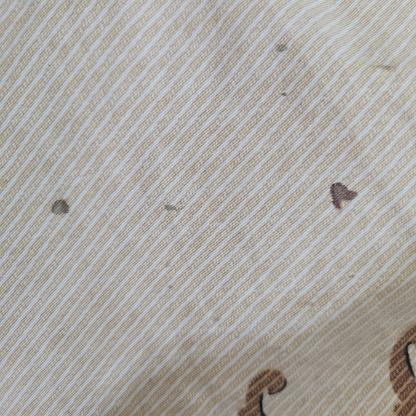spot: (272, 33, 300, 110), (326, 168, 358, 217), (373, 42, 394, 86), (50, 189, 74, 220), (156, 194, 182, 221)
